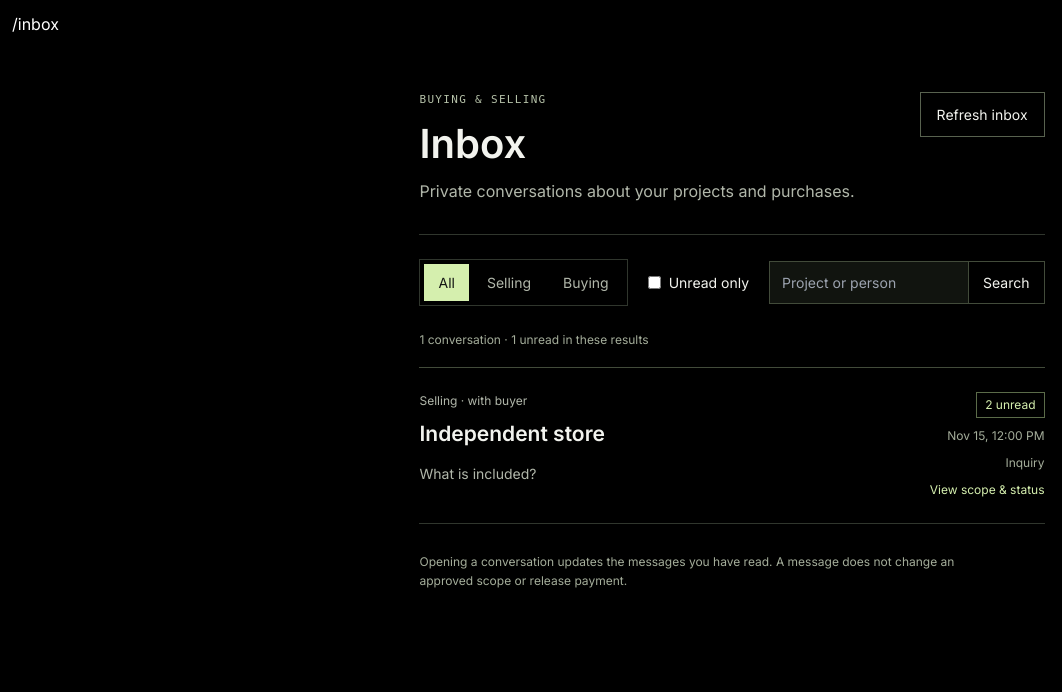
Test: inbox links to exact conversation and filters/paginates through the API without marking anything read
Later steps or results of the test are not shown.
Click the button "Selling": (509, 283) [473,264,545,301]
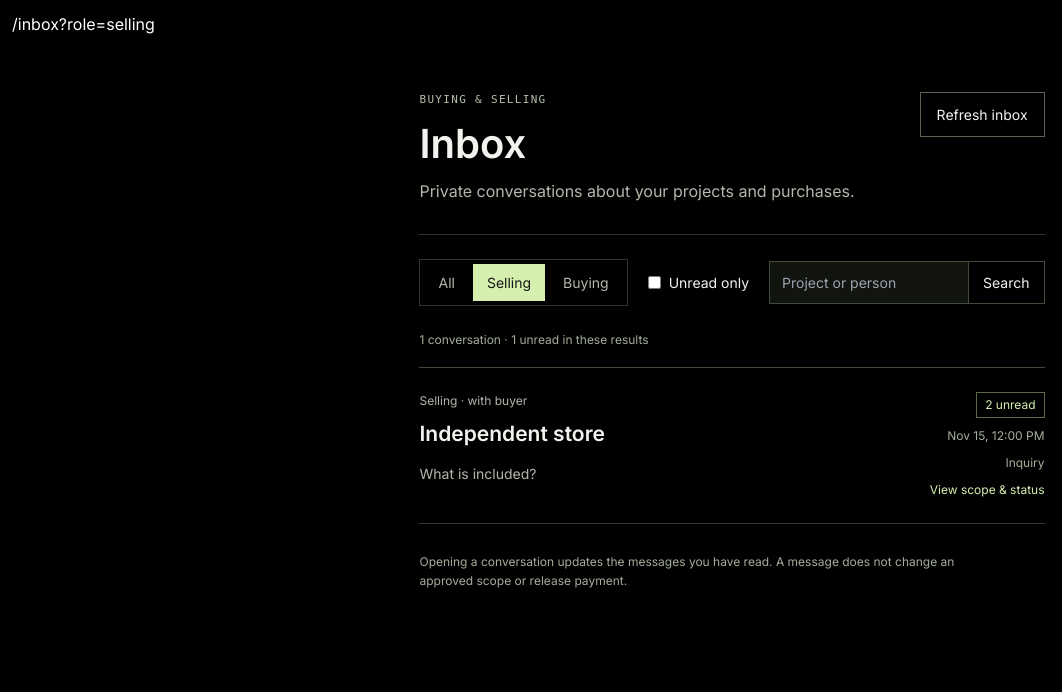
Click the checkbox labelled "Unread only": (654, 283) [648,276,661,289]
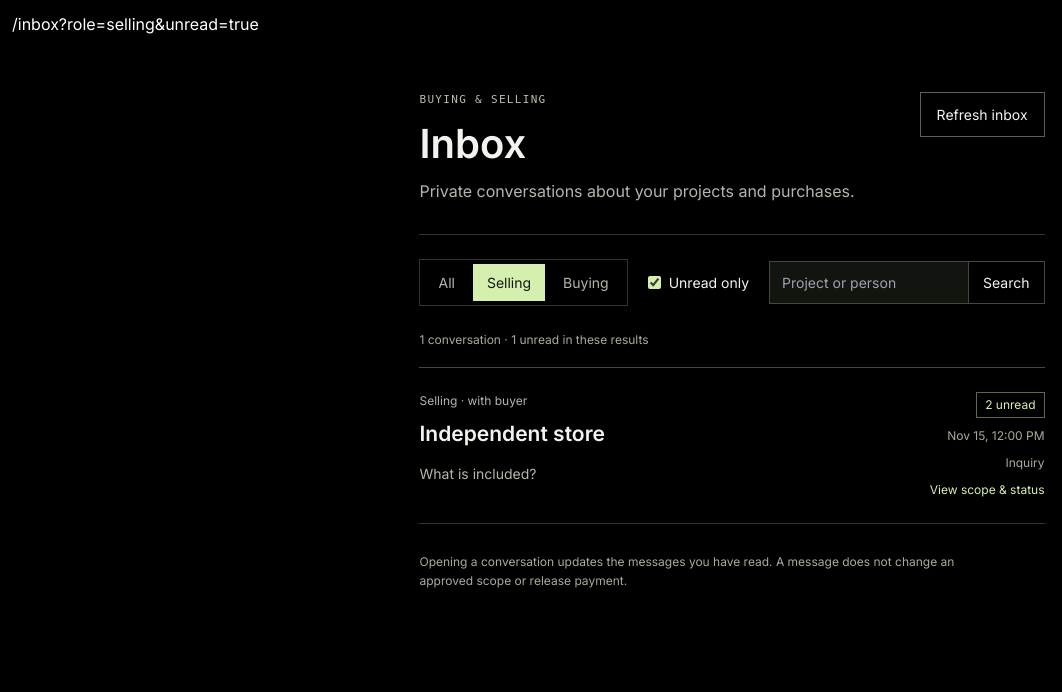
In the search field named "Search project or person": (869, 283) [769,261,969,304], type "store"
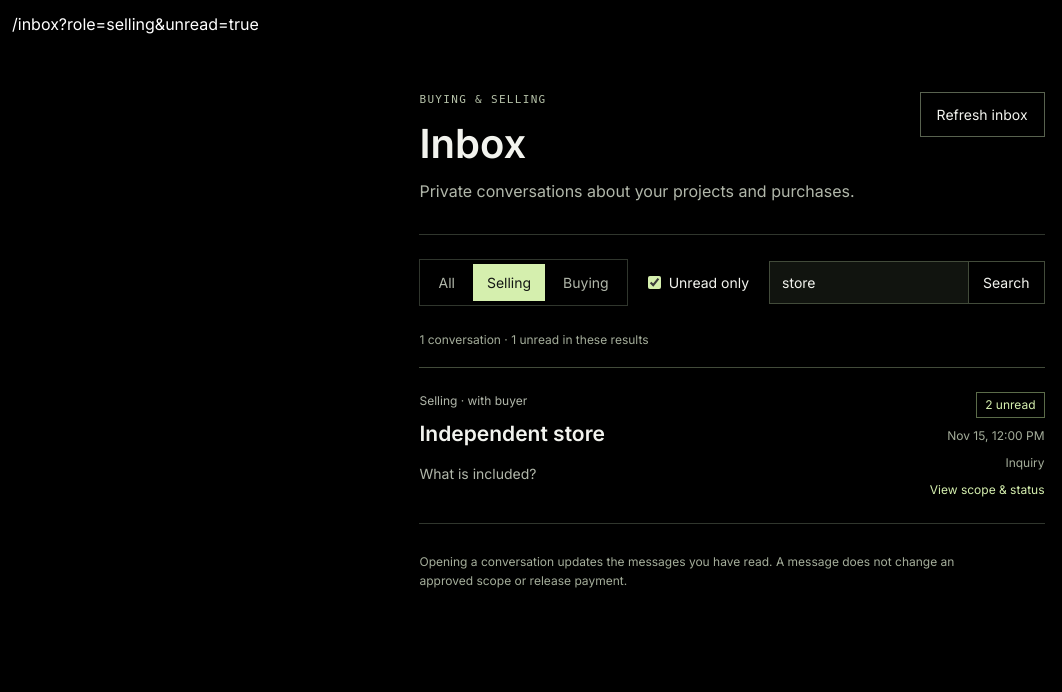
Click the button "Search": (1007, 283) [969,261,1045,304]
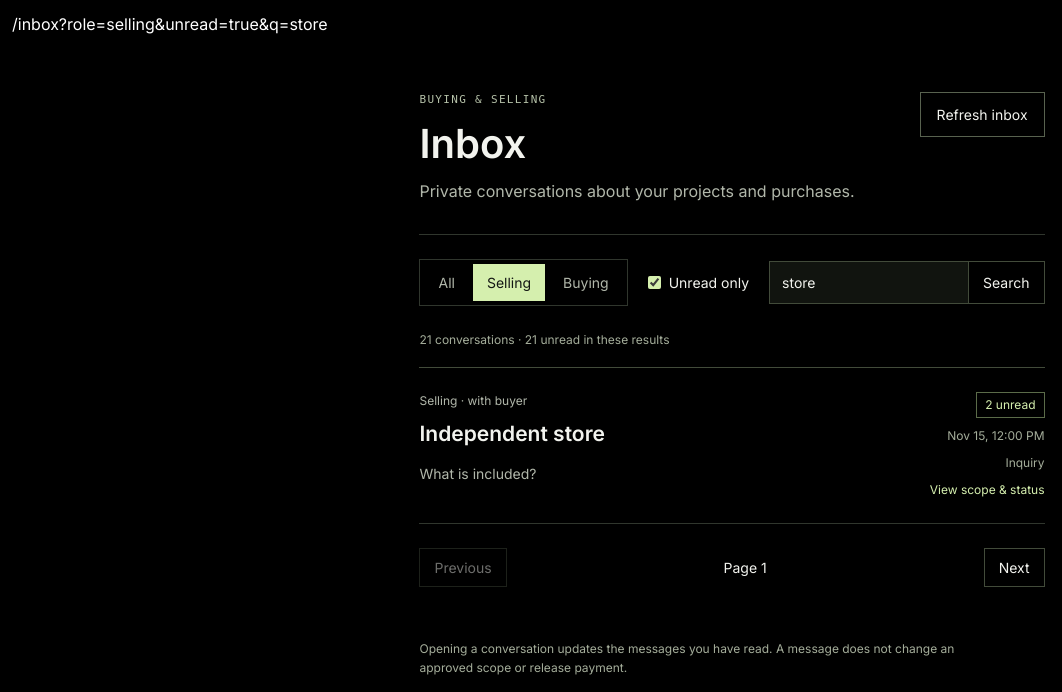
Result: the button "Next" is shown at [984,548,1044,587]
